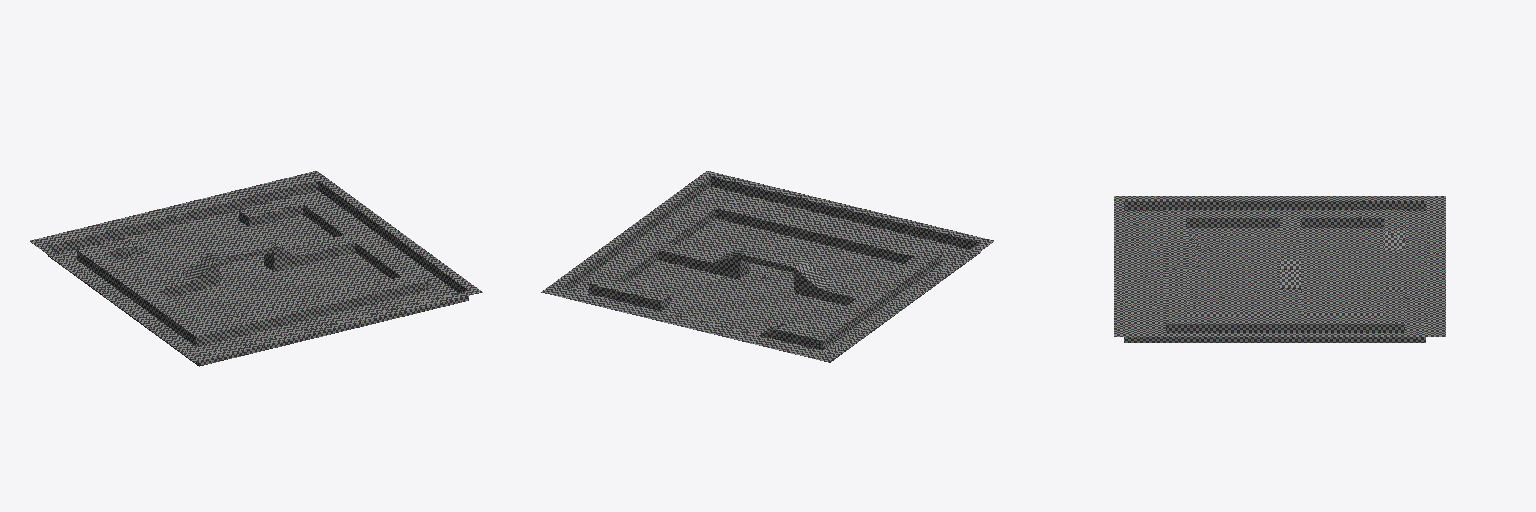
3 views of the same model, side by side, from view 1: azimuth 30°, elevation 25°; view 2: azimuth 150°, elevation 25°; view 3: azimuth 270°, elevation 25° (orthographic).
Parts seen in each view (by area): view 1: Plane.001; view 2: Plane.001; view 3: Plane.001.
Boxes of the visible parts, box(x1,y1,x2,y2) form: Plane.001: box(30, 171, 482, 366); Plane.001: box(541, 171, 993, 362); Plane.001: box(1114, 196, 1445, 342).
Size of the model in its own units: 601 by 82.33 by 601.
1 materials, 1 textured.